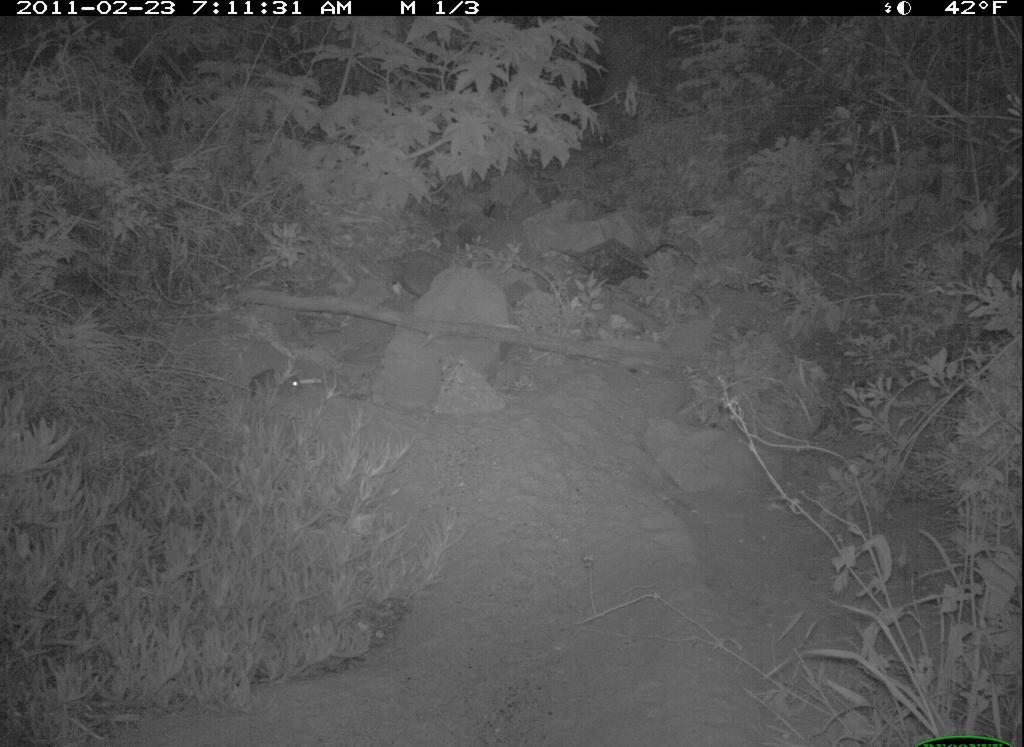rabbit: (242, 353, 340, 418)
